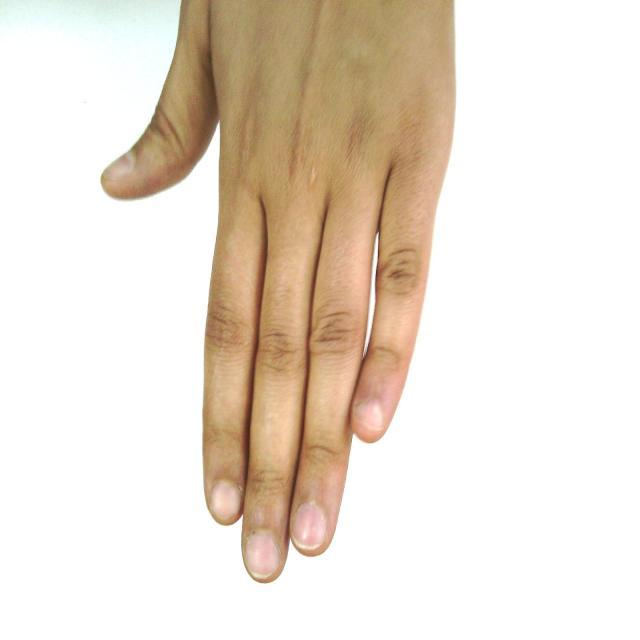Fingernail: (294, 503, 326, 546), (247, 534, 279, 577), (212, 482, 241, 520), (103, 153, 132, 180), (356, 403, 383, 429)
